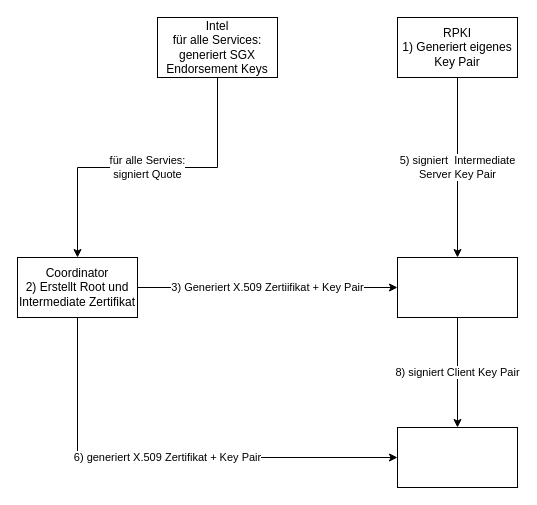
The diagram is 537 pixels wide and 505 high, and some of its shapes have lost their labels. Here are the shapes that lost their labels. From the top down, the box of each, then its label:
(396, 256, 518, 318): PKI Server 4) Generiert intermediate Server Key Pair
(396, 426, 518, 488): PKI Client 7) Generiert Client Key Pair
